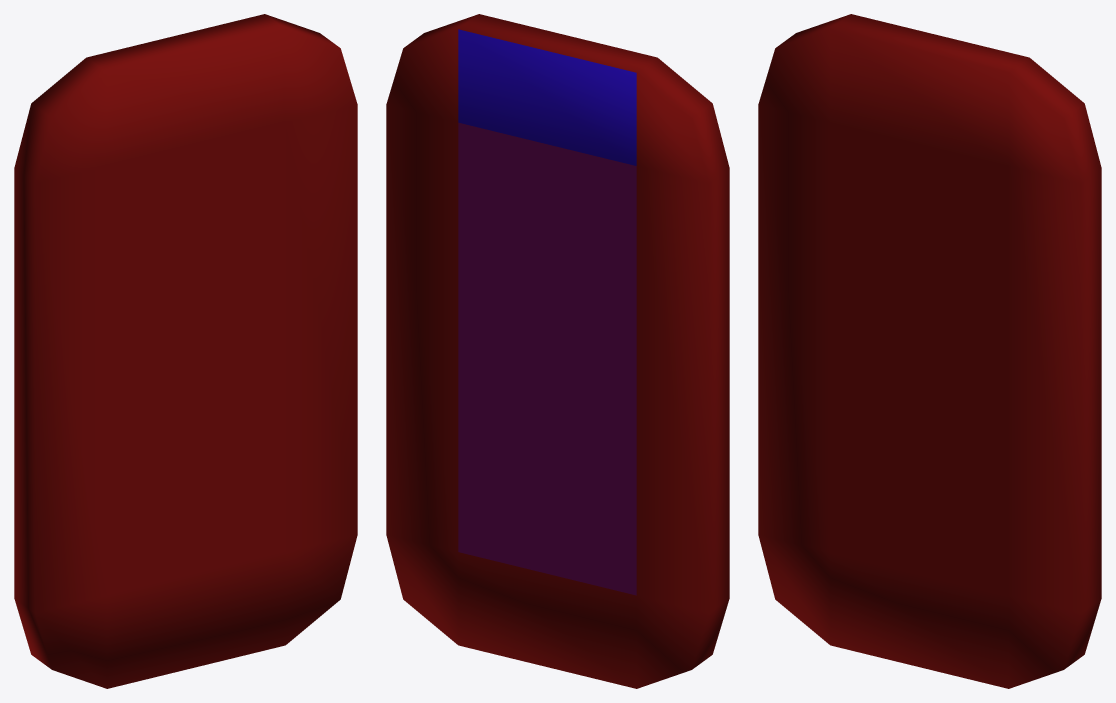
Rendered from PickupShieldTower.dae.
3 views of the same model, side by side, from view 1: azimuth 30°, elevation 25°; view 2: azimuth 150°, elevation 25°; view 3: azimuth 330°, elevation 25° (orthographic).
Parts seen in each view (by area): view 1: ShieldTowerPickup; view 2: ShieldTowerPickup; view 3: ShieldTowerPickup.
Part boxes in pixels (x1,y1,x2,y2): ShieldTowerPickup: (14,14,357,688); ShieldTowerPickup: (386,14,729,688); ShieldTowerPickup: (758,14,1101,688).
Bounding box in the file's own units: 0.449 × 0.0503 × 0.8194.
